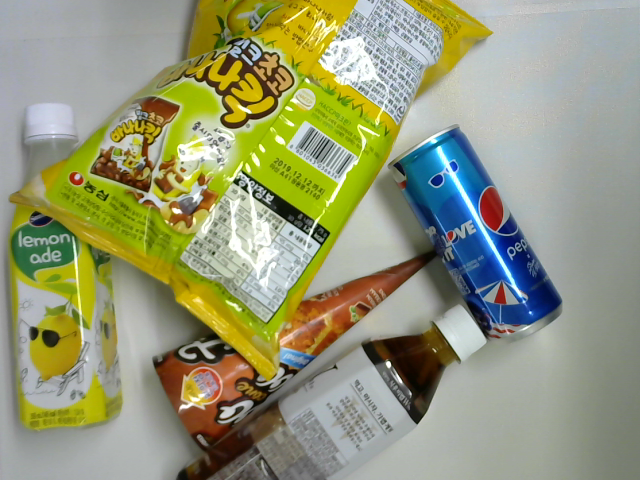Banana_Kick: (9, 1, 493, 384)
GooGoo_Cone_CVS: (150, 233, 439, 453)
Pepsi_Cola_Can_250ml: (387, 123, 565, 341)
Post-meal_recipe_W_tea_500ml: (177, 302, 490, 480)
Sunkist_Lemonaid_Pet: (7, 104, 127, 437)
